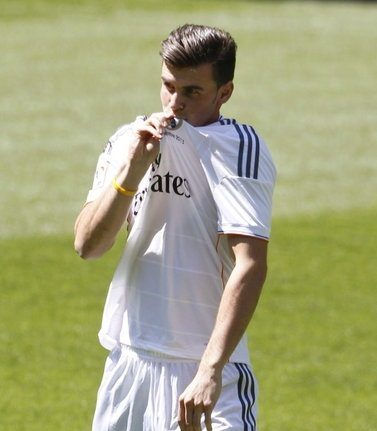face: (161, 53, 216, 128)
